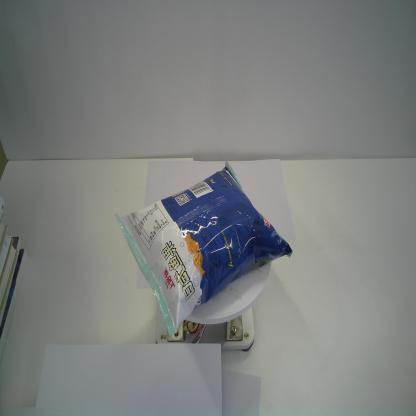Puffed Food: (115, 159, 293, 338)
